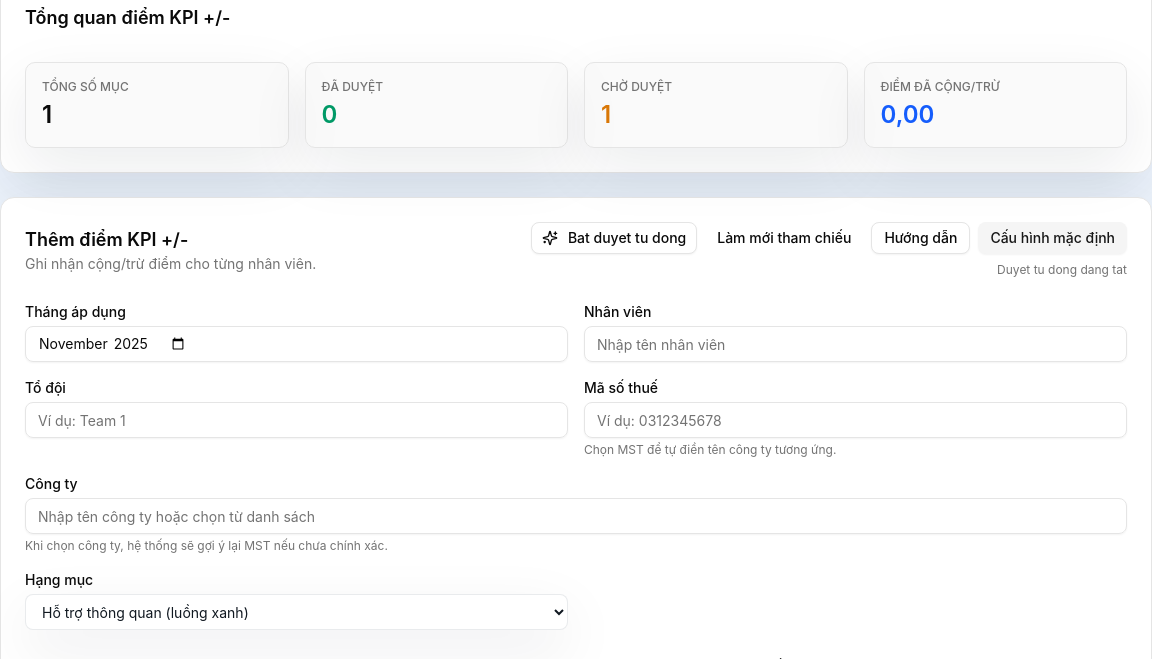
Test case: KPIAdjustments UI › cho phép chuyển chế độ và cập nhật điểm dự kiến theo cấu hình
Expected: the text "Thêm điểm KPI +/-" is shown, top-left (25, 229), bottom-right (188, 250)
Select "Hỗ trợ khác" in the dropdown labelled "Hạng mục" at coordinates (296, 612), box top-left (25, 594), bottom-right (568, 630)
(page scrolled)
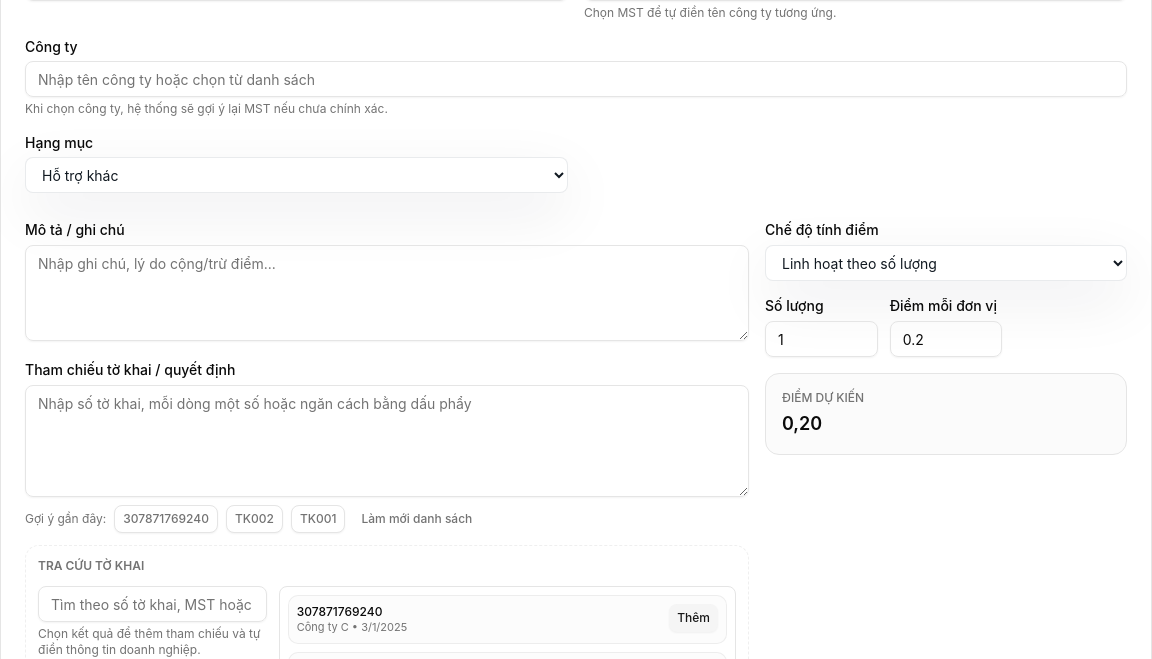
Now the dropdown labelled "Chế độ tính điểm" shows "Linh hoạt theo số lượng", box top-left (765, 245), bottom-right (1127, 281)
Replace the text in the number field labelled "Số lượng" with "5" at coordinates (821, 339), box top-left (765, 321), bottom-right (878, 357)
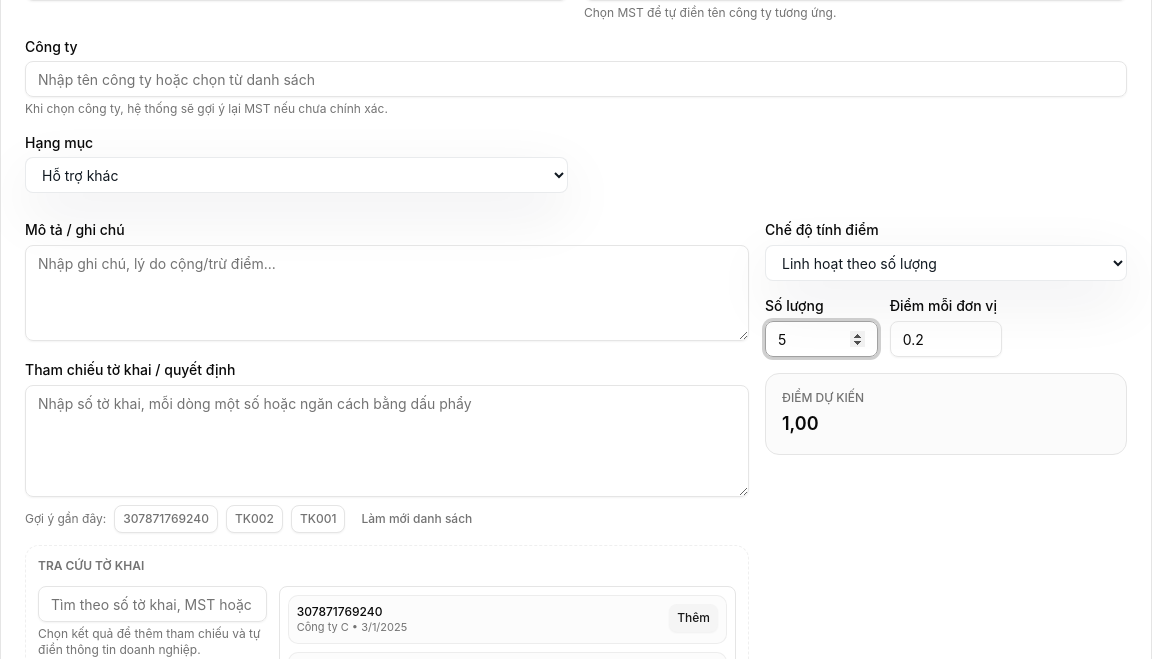
Now the text with test id "kpi-adjust-total-value" shows "1,0", box top-left (782, 413), bottom-right (819, 434)
Select "Điểm cố định" in the dropdown labelled "Chế độ tính điểm" at coordinates (946, 263), box top-left (765, 245), bottom-right (1127, 281)
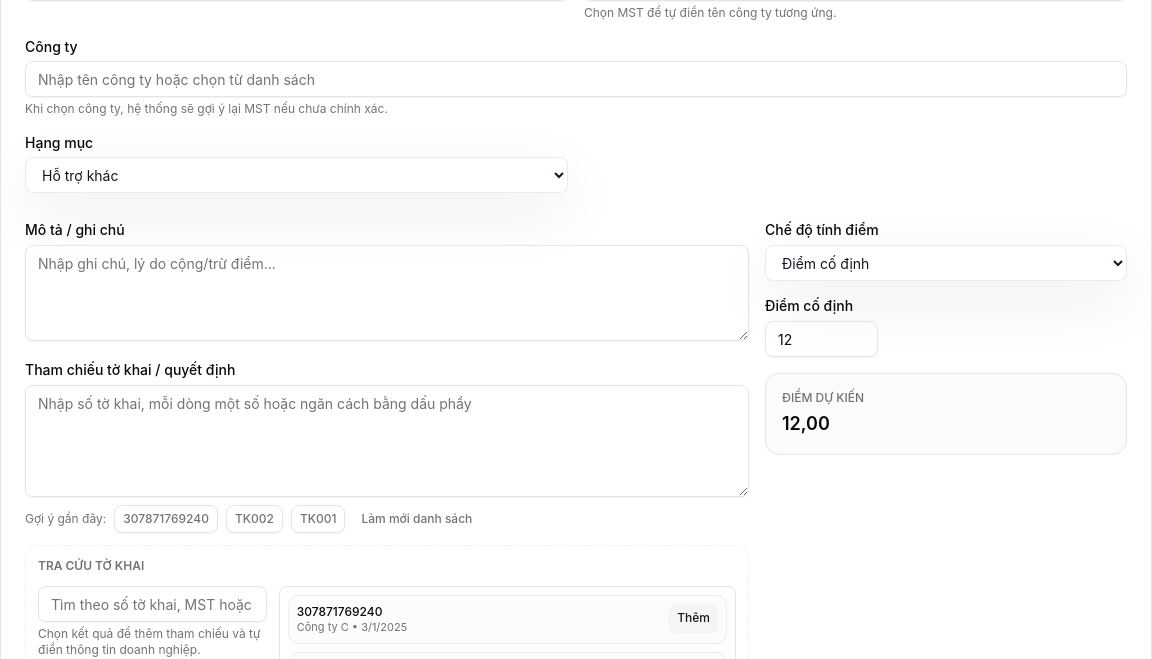
Now the text with test id "kpi-adjust-total-value" shows "12,0", box top-left (782, 413), bottom-right (830, 434)
Select "Hỗ trợ xin giấy phép" in the dropdown labelled "Hạng mục" at coordinates (296, 175), box top-left (25, 157), bottom-right (568, 193)
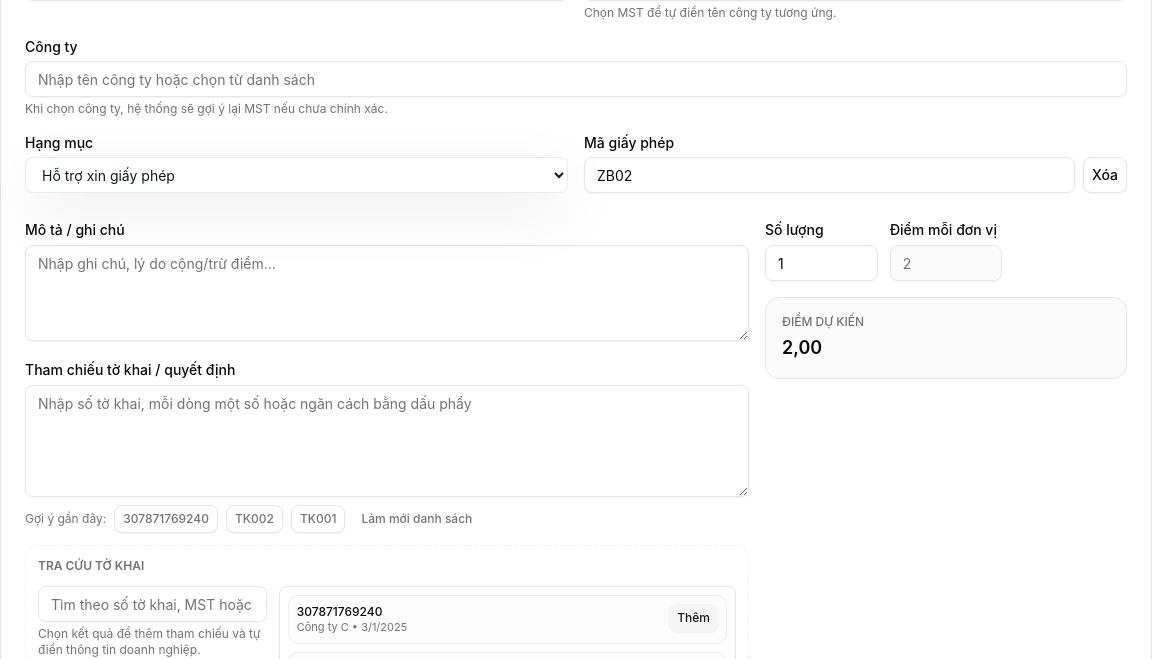
Clear the field labelled "Mã giấy phép" at coordinates (830, 175), box top-left (584, 157), bottom-right (1075, 193)
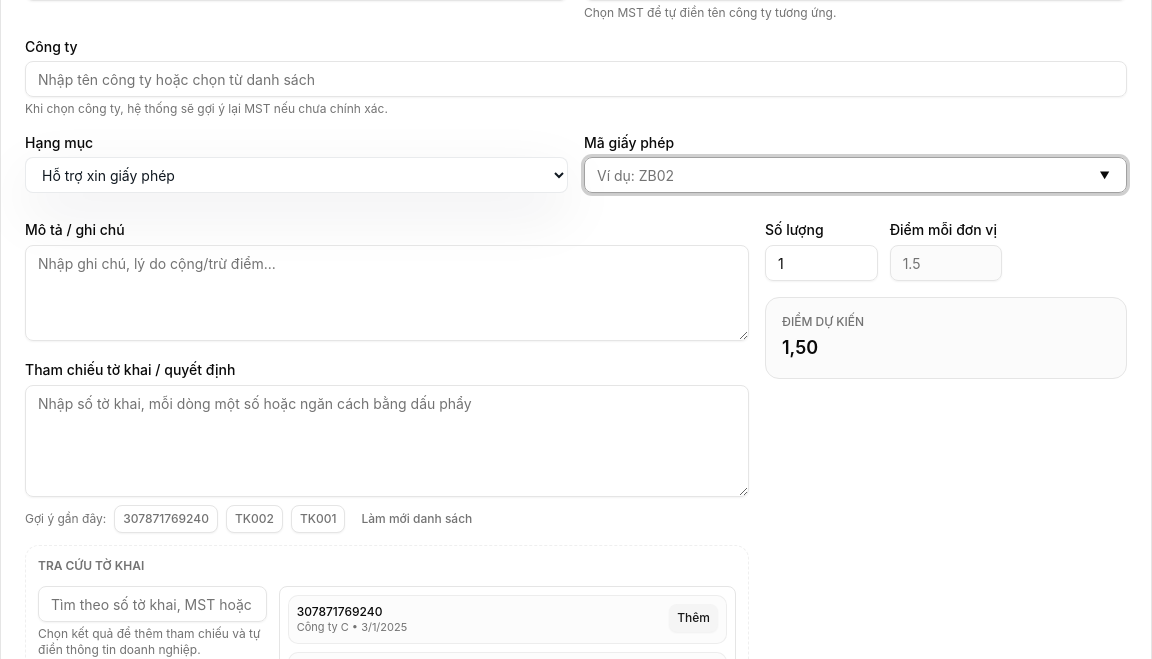
Type "ZB03" into the field labelled "Mã giấy phép".
click(856, 175); type("ZB03")  # box top-left (584, 157), bottom-right (1127, 193)
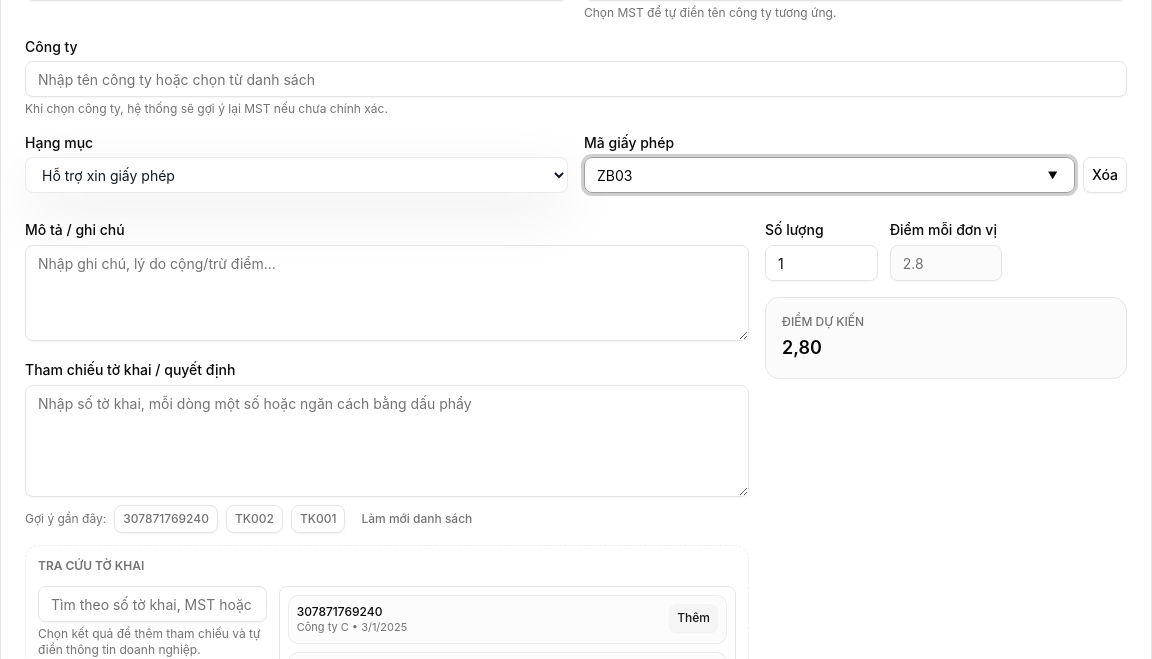
Now the number field labelled "Điểm mỗi đơn vị" holds "2.8", box top-left (890, 245), bottom-right (1002, 281)
